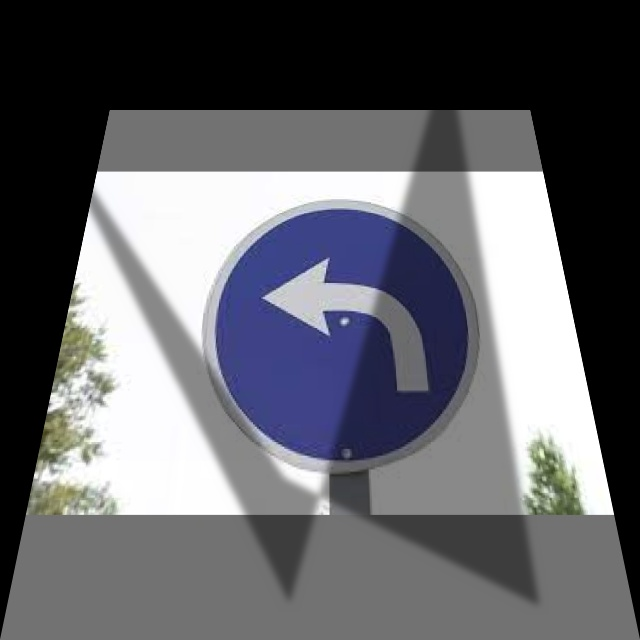Compulsory_Turn_Left_Ahead: (195, 197, 494, 470)
